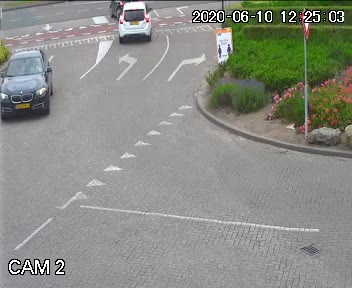car: (0, 45, 60, 129), (114, 7, 161, 43)
